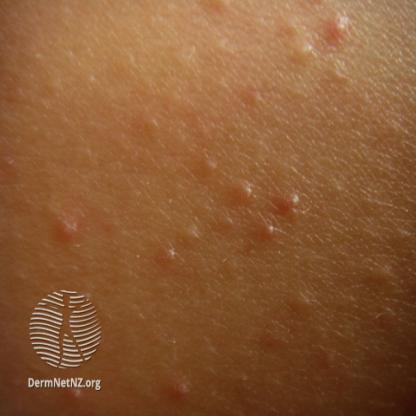Chicken Skin: (278, 182, 307, 217), (237, 177, 257, 206), (261, 219, 282, 242), (162, 243, 176, 266)
